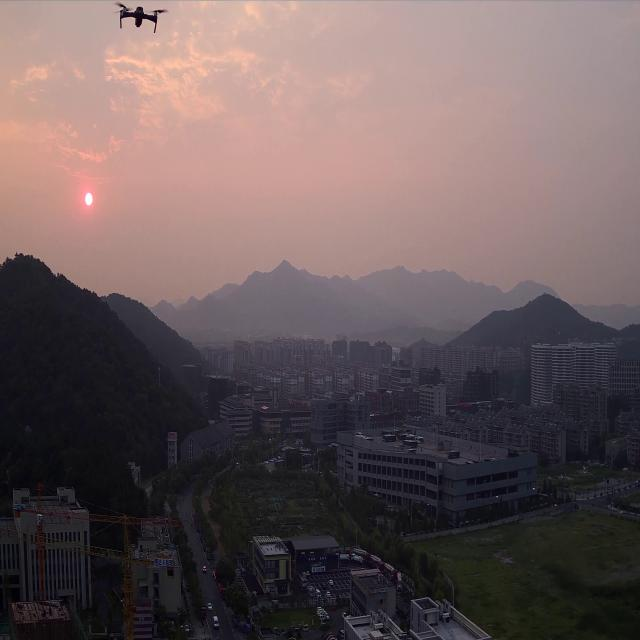drone: (112, 0, 168, 33)
